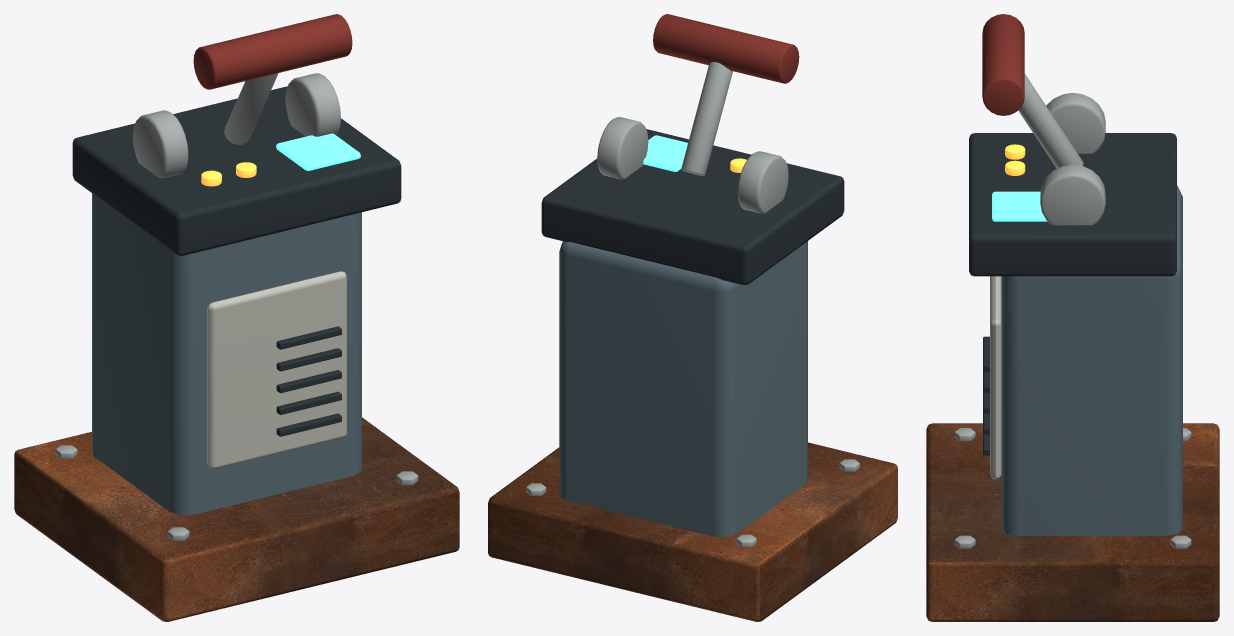
The model's file is terrain-lever.glb.
3 views of the same model, side by side, from view 1: azimuth 30°, elevation 25°; view 2: azimuth 150°, elevation 25°; view 3: azimuth 270°, elevation 25° (orthographic). The views are drawn at different scales.
Parts seen in each view (by area): view 1: terrain-lever; view 2: terrain-lever; view 3: terrain-lever.
Boxes of the visible parts, box(x1,y1,x2,y2) form: terrain-lever: box(14, 14, 459, 621); terrain-lever: box(488, 14, 897, 621); terrain-lever: box(926, 14, 1219, 621).
Size of the model in its own units: 0.86 by 1.46 by 0.76.
8 materials, 1 textured.
